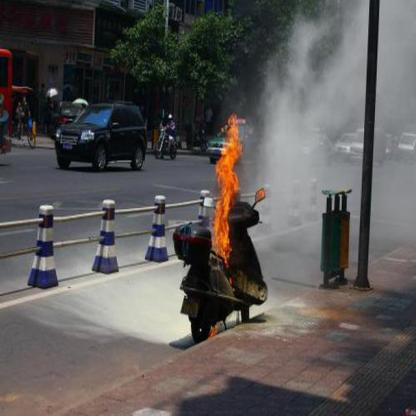fire: (212, 107, 238, 266), (210, 322, 222, 336)
smoke: (266, 87, 318, 222), (382, 13, 410, 124)
